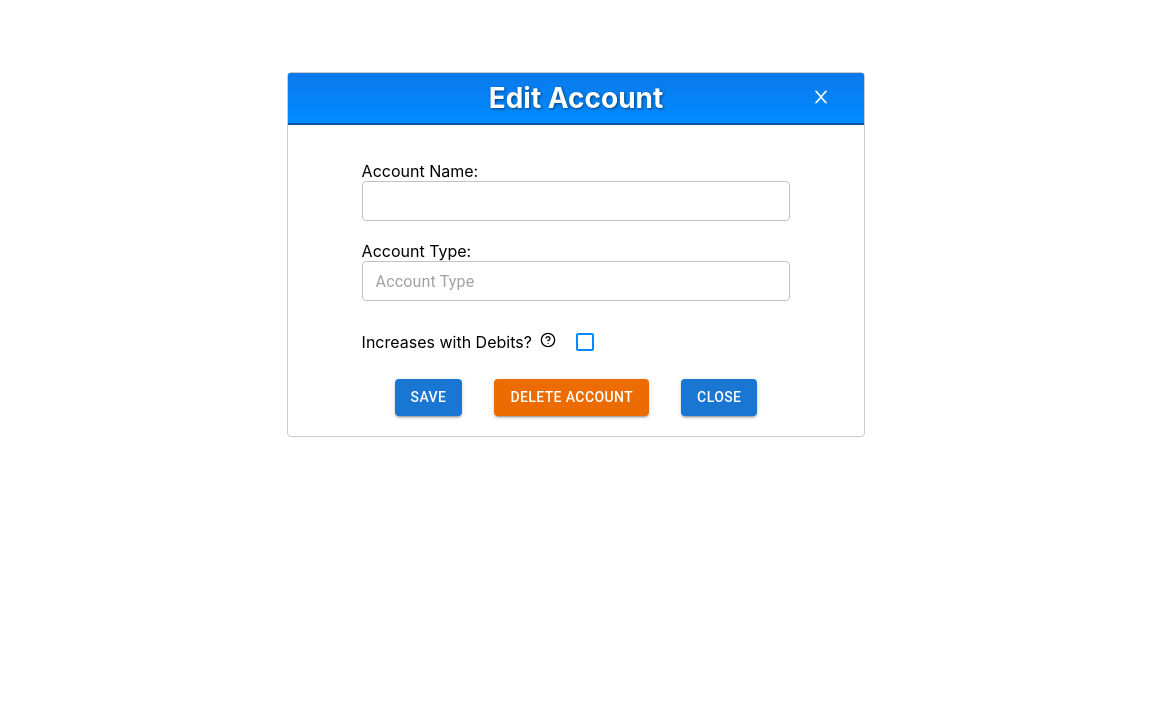
Test case: EditAccountModal Component › Opening the delete account confirmation dialog › Clicking "No" closes the dialog
Click the button "Delete Account": (572, 397) left=494, top=379, right=649, bottom=416
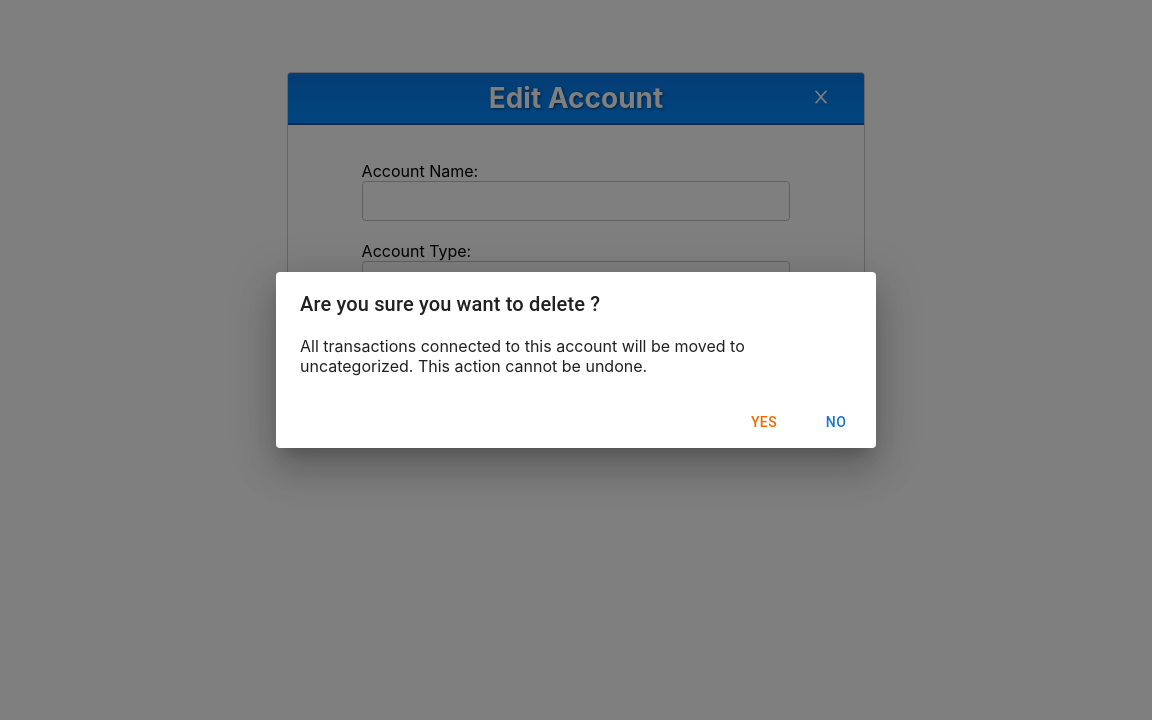
Click the button "No": (836, 422) left=804, top=404, right=868, bottom=440
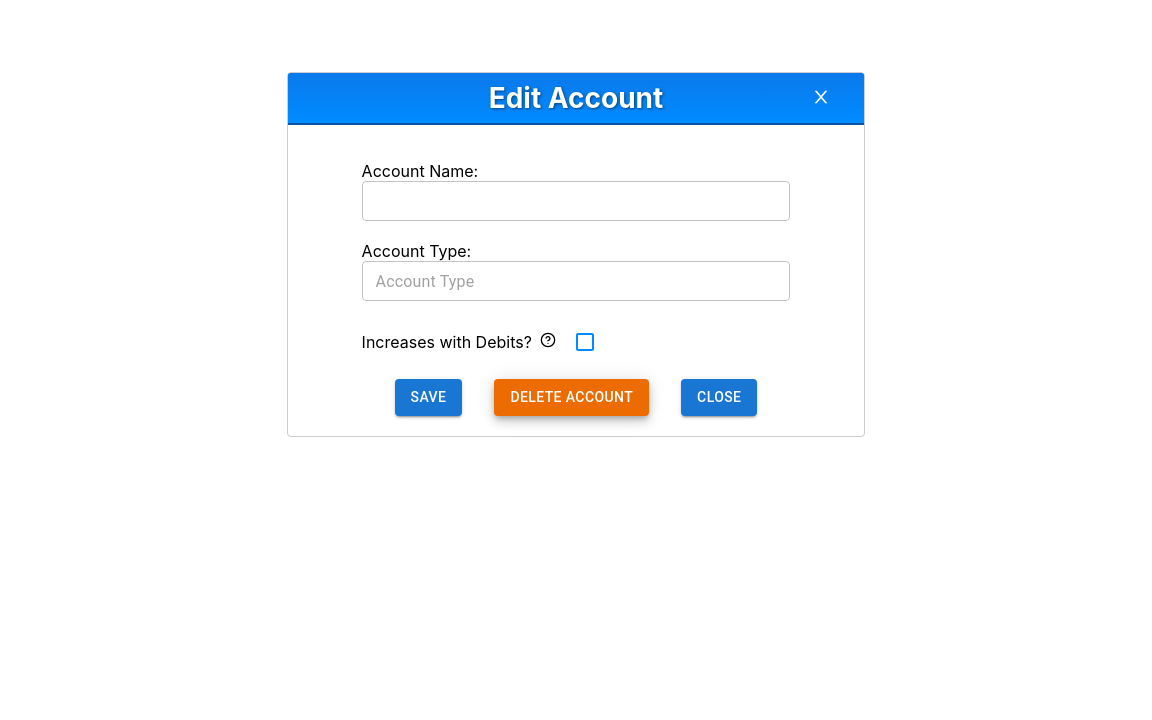
Check: the text "No" is gone
